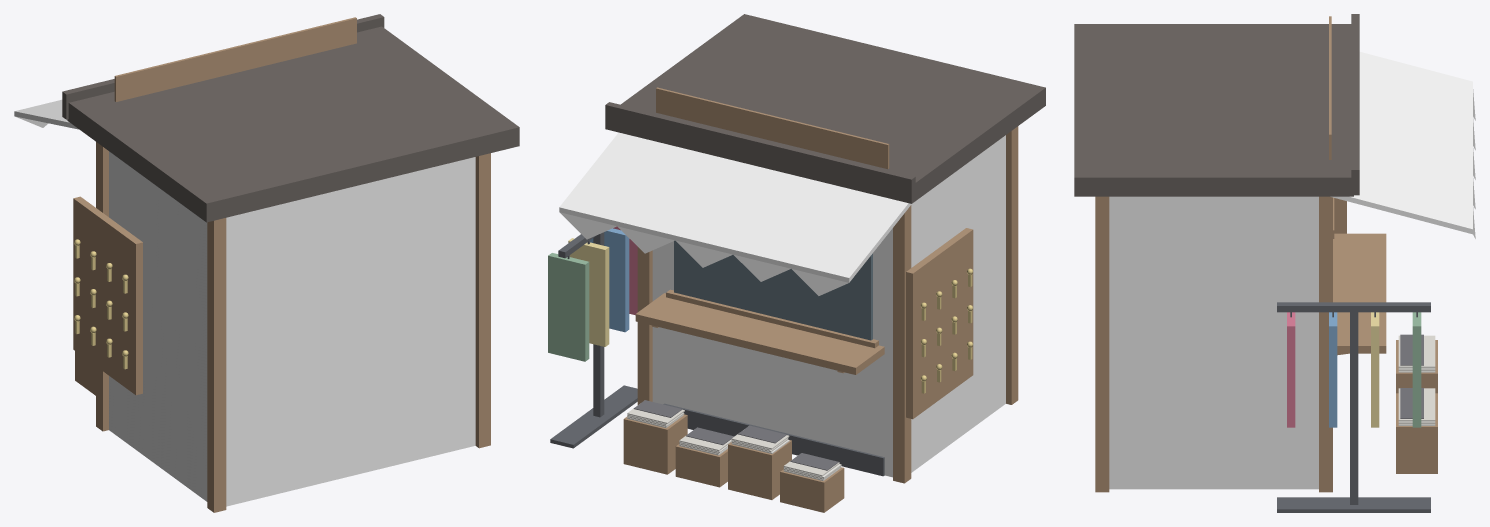
Rendered from good_kiosk.glb.
3 views of the same model, side by side, from view 1: azimuth 30°, elevation 25°; view 2: azimuth 150°, elevation 25°; view 3: azimuth 270°, elevation 25° (orthographic). The views are drawn at different scales.
Parts seen in each view (by area): view 1: gk_hut_paint_mesh, gk_hut_trim_mesh, gk_keys_mesh, gk_papers_mesh; view 2: gk_hut_trim_mesh, gk_hut_paint_mesh, gk_papers_mesh, gk_clothes_mesh, gk_keys_mesh; view 3: gk_hut_paint_mesh, gk_hut_trim_mesh, gk_clothes_mesh, gk_papers_mesh.
Part boxes in pixels (bbox=[...]): gk_hut_paint_mesh: bbox=[14, 99, 475, 506]; gk_hut_trim_mesh: bbox=[62, 14, 519, 512]; gk_keys_mesh: bbox=[73, 196, 142, 395]; gk_papers_mesh: bbox=[75, 351, 95, 395]; gk_hut_trim_mesh: bbox=[605, 14, 1045, 483]; gk_hut_paint_mesh: bbox=[559, 132, 1005, 477]; gk_papers_mesh: bbox=[623, 400, 844, 512]; gk_clothes_mesh: bbox=[548, 226, 637, 448]; gk_keys_mesh: bbox=[906, 228, 973, 419]; gk_hut_paint_mesh: bbox=[1109, 52, 1475, 489]; gk_hut_trim_mesh: bbox=[1074, 14, 1386, 492]; gk_clothes_mesh: bbox=[1277, 302, 1430, 512]; gk_papers_mesh: bbox=[1396, 334, 1437, 473].
Bounding box in the file's own units: 2.89 × 2.75 × 2.87.
